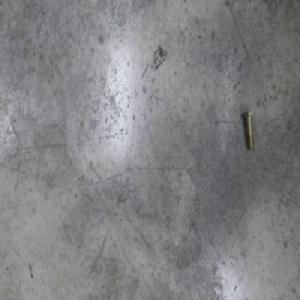Bolt: (241, 109, 253, 151)
